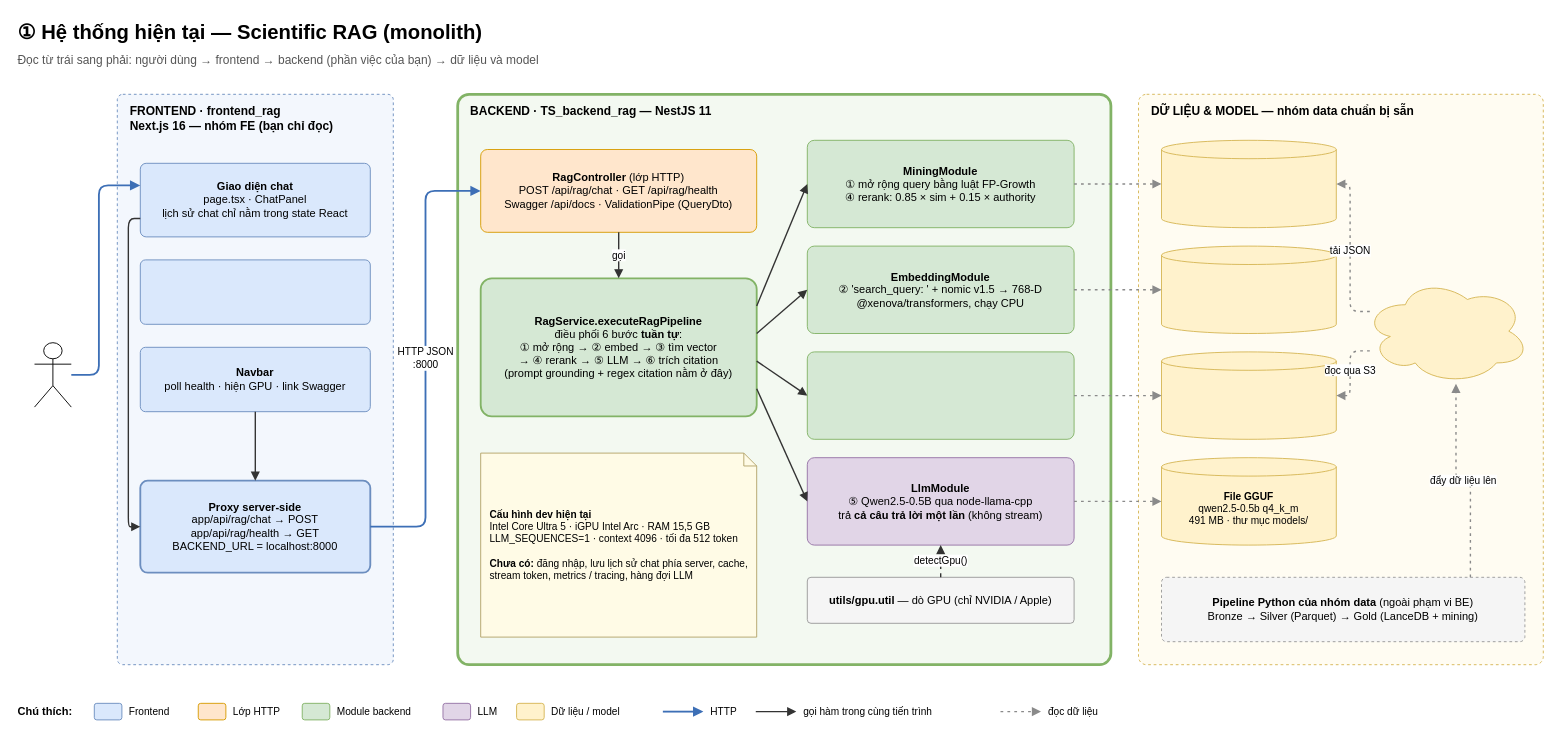
Image size: 1559x737. Some labels were removed from this diagram. The centre of each missing label's shape, as x and y in pixels:
Cloudflare R2 (S3) — dùng khi không có data/ local: (x=1446, y=330)
Inspector · Paper modal xem chunk nguồn và citation: (x=254, y=291)
LanceDB Gold scientific_papers_gold 164.876 chunk · vector 768-D: (x=1248, y=395)
Mining JSON graph_coauthorship (PageRank) association_rules (FP-Growth): (x=1248, y=183)
Model embedding nomic-embed-text v1.5 (ONNX) tải về cache lần đầu: (x=1248, y=289)
Người dùng (trình duyệt): (x=52, y=374)
VectorStoreModule ③ tìm cosine trên LanceDB lấy max(top_k × 3, 20) ứng viên: (x=940, y=395)
